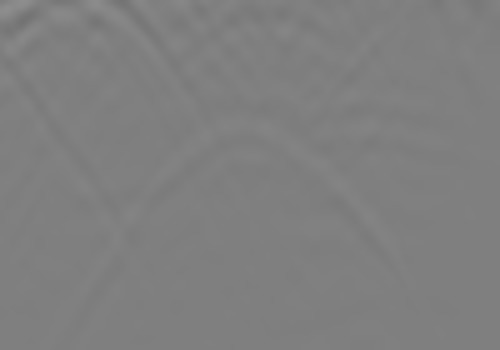hyperbola: (85, 119, 425, 304)
